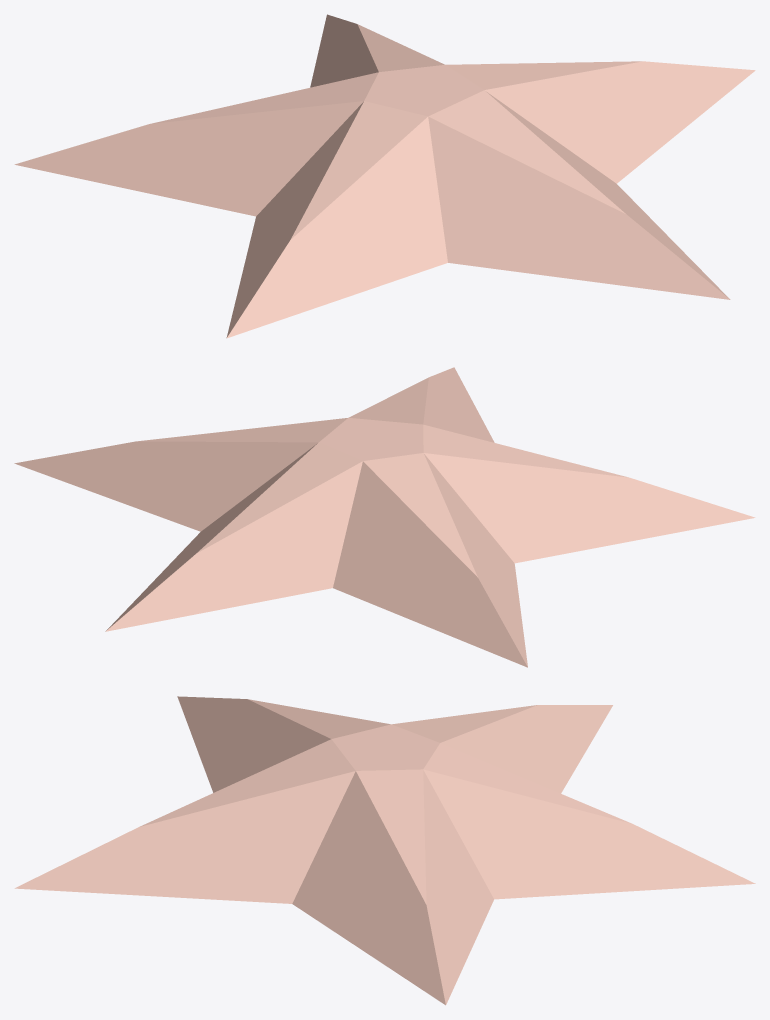
File: Beach_Prop_Starfish_1.glb
3 renders of one model, top to bottom at view 1: azimuth 30°, elevation 25°; view 2: azimuth 150°, elevation 25°; view 3: azimuth 270°, elevation 25°, orthographic. The views are drawn at different scales.
Parts seen in each view (by area): view 1: Beach_Prop_Starfish_1; view 2: Beach_Prop_Starfish_1; view 3: Beach_Prop_Starfish_1.
Part boxes in pixels (x1,y1,x2,y2): Beach_Prop_Starfish_1: [14, 14, 755, 338]; Beach_Prop_Starfish_1: [14, 367, 755, 667]; Beach_Prop_Starfish_1: [14, 696, 755, 1005].
Bounding box in the file's own units: 0.189 × 0.025 × 0.1917.
